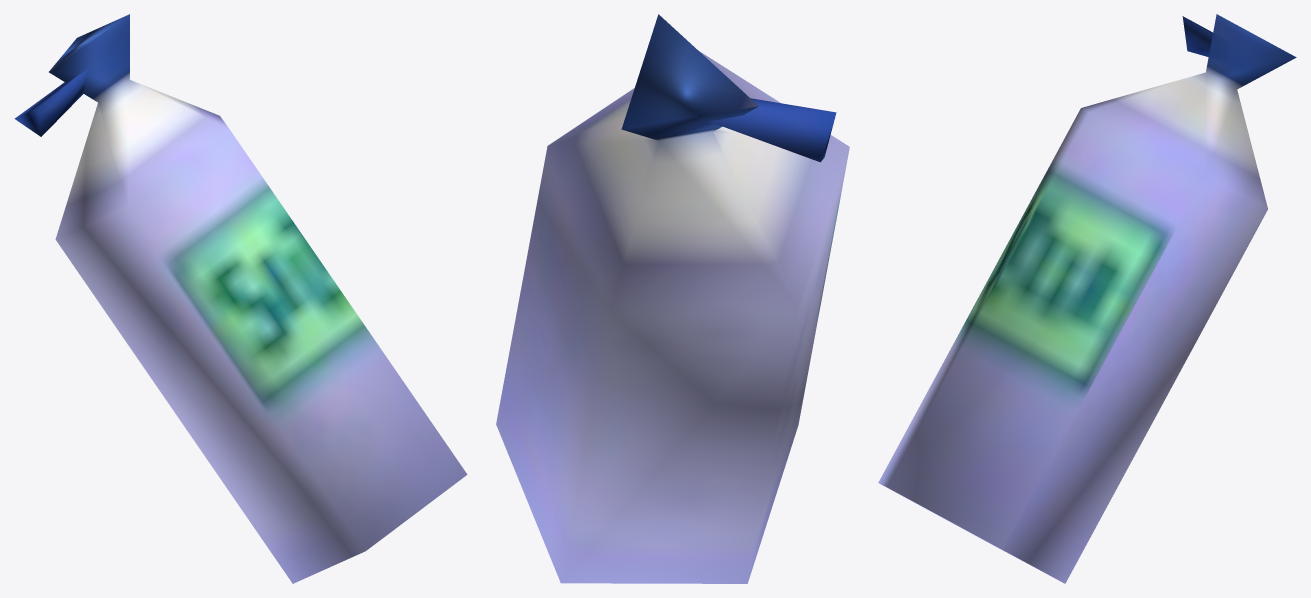
File: bottle.glb
3 views of the same model, side by side, from view 1: azimuth 30°, elevation 25°; view 2: azimuth 150°, elevation 25°; view 3: azimuth 270°, elevation 25° (orthographic). The views are drawn at different scales.
Visible parts, largest first — view 1: bottle; view 2: bottle; view 3: bottle.
Boxes of the visible parts, box(x1,y1,x2,y2) form: bottle: box(14, 14, 467, 583); bottle: box(496, 14, 849, 583); bottle: box(878, 14, 1296, 583).
Bounding box in the file's own units: 1.44 × 2.04 × 1.53.
1 material, 1 textured.
